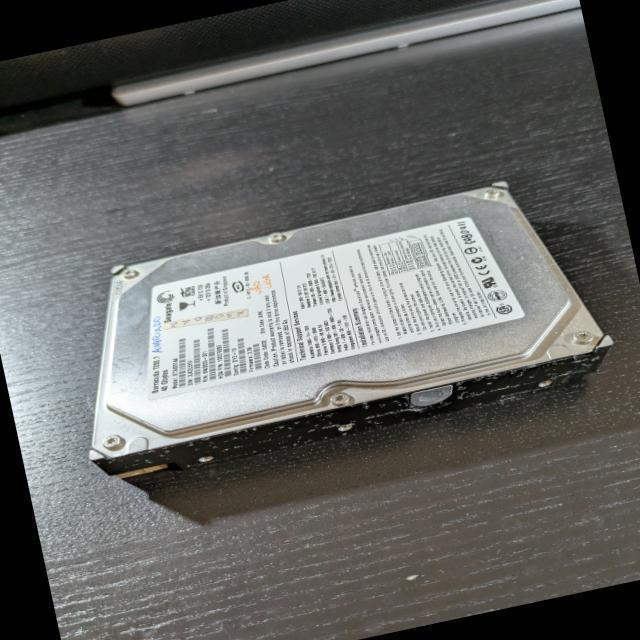DISK: (50, 165, 622, 492)
